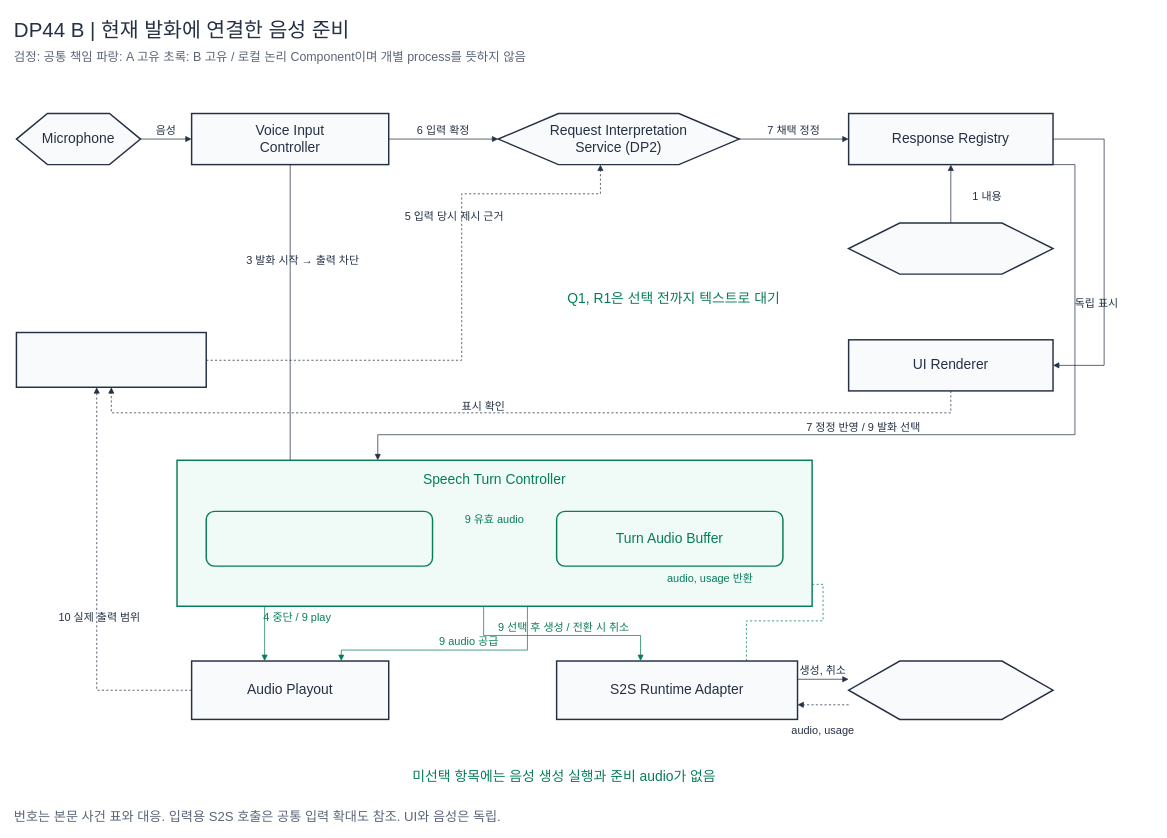
This 1167x838 diagram has some shape labels left out. The centre of each missing label's shape, as x and y in pixels:
Delivery History: (111,359)
Downstream Agent: (950,248)
S2S Runtime: (950,690)
Turn Execution: (319,538)
